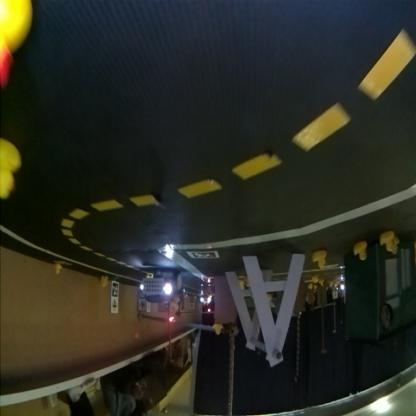Duckie: (2, 142, 22, 198), (356, 242, 368, 260), (315, 252, 327, 269), (382, 234, 394, 250), (214, 324, 223, 336), (54, 264, 62, 274), (100, 278, 108, 288)
Duckiebot: (141, 272, 184, 304)
Intersection sign: (112, 299, 118, 313)
QR code: (189, 252, 219, 259), (113, 284, 118, 296)
Traffic light: (171, 316, 176, 324)
